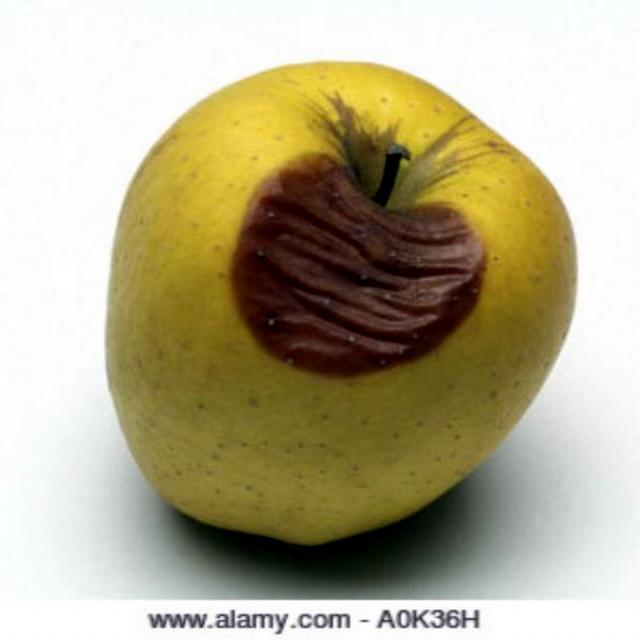ROT: (87, 41, 569, 548)
